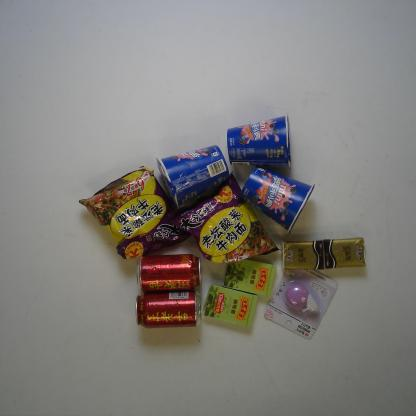Candy: (201, 284, 259, 328), (223, 252, 277, 297)
Dessert: (239, 166, 316, 235), (155, 146, 231, 208), (226, 114, 292, 169)
Drink: (136, 290, 204, 328), (137, 254, 202, 292)
Instant Noodles: (166, 171, 283, 263), (78, 166, 190, 260)
Stationery: (264, 260, 338, 340)
Tissue: (324, 238, 365, 269), (284, 240, 325, 270)
